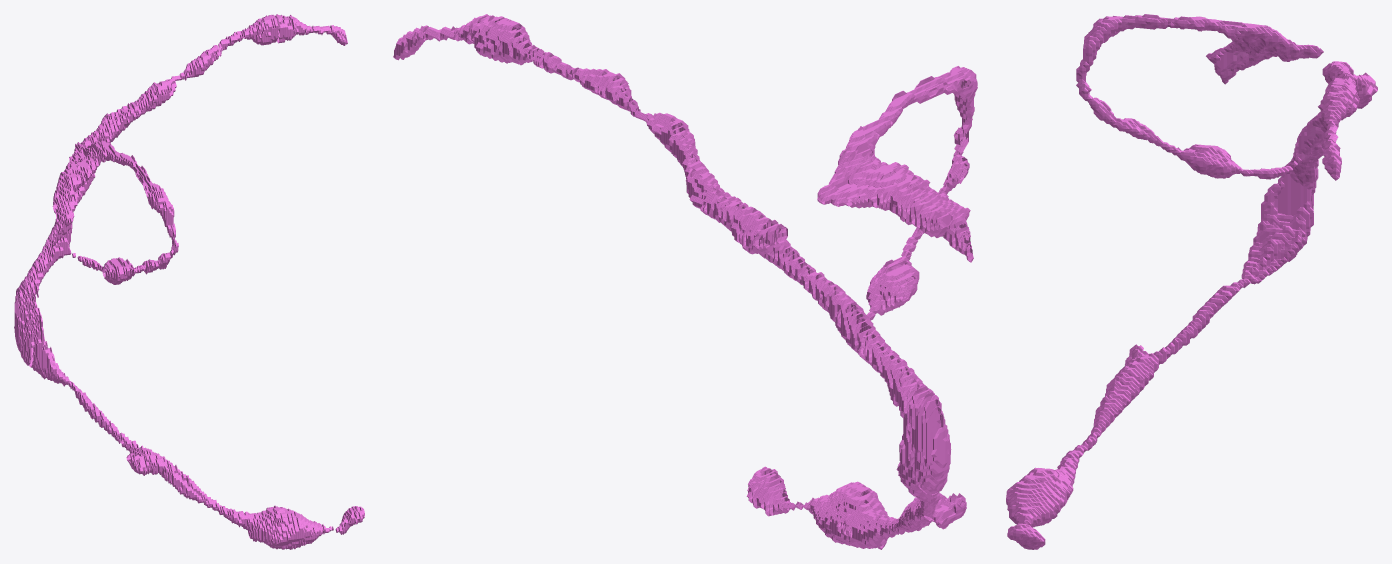
Rendered from SVV_OLLL.gltf.
3 views of the same model, side by side, from view 1: azimuth 30°, elevation 25°; view 2: azimuth 150°, elevation 25°; view 3: azimuth 270°, elevation 25° (orthographic). The views are drawn at different scales.
Parts seen in each view (by area): view 1: OLLL; view 2: OLLL; view 3: OLLL.
Part boxes in pixels (x1,y1,x2,y2): OLLL: (14,14,364,549); OLLL: (393,14,977,549); OLLL: (1006,14,1377,549).
Bounding box in the file's own units: 98035 × 110810 × 74054.
